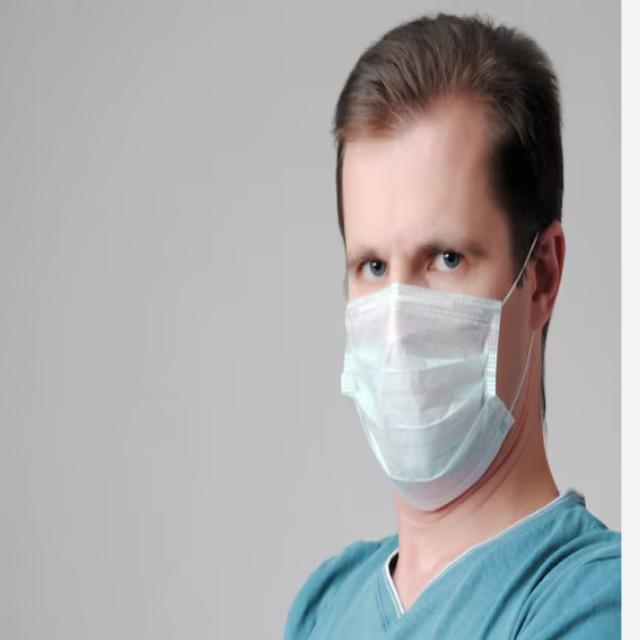face_mask: (336, 121, 564, 479)
